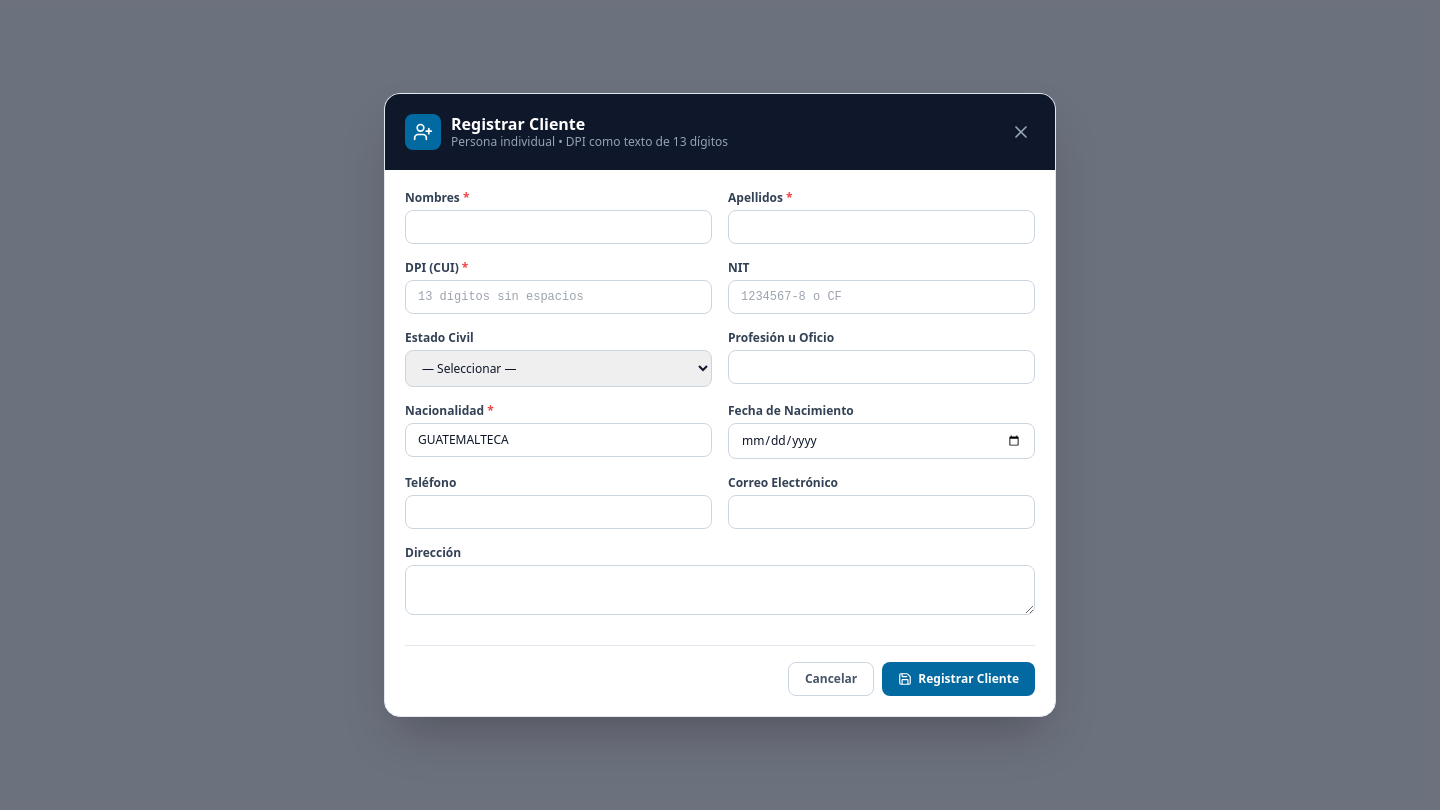
Test: ClientFormModal › aplica la máscara de DPI eliminando caracteres no numéricos
Step 1. Type "12ab34-5678 90101" into the field labelled "DPI (CUI) *" → (558, 297), box [405,280,712,314]
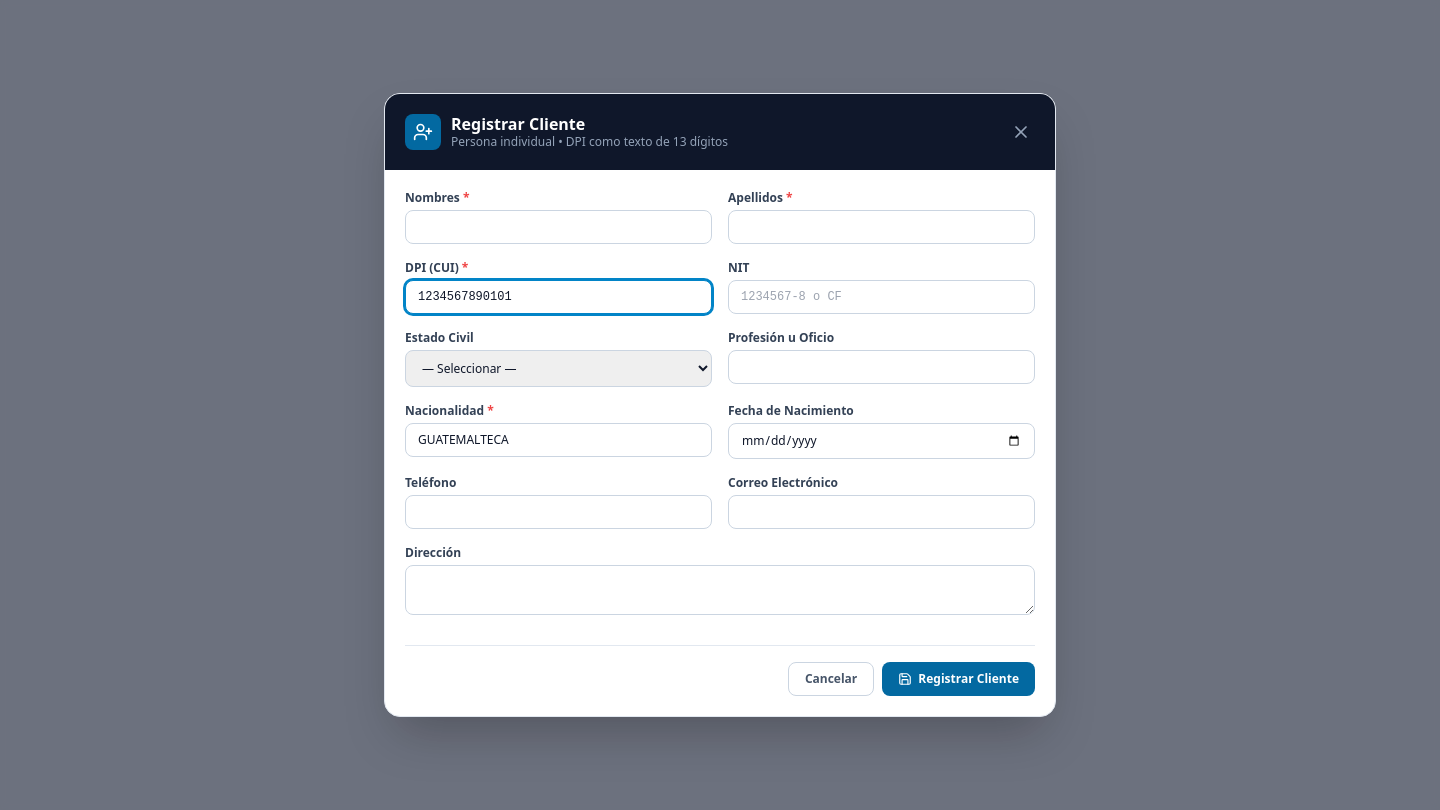
Expected: the field labelled "DPI (CUI) *" holds "1234567890101", [405,280,712,314]
